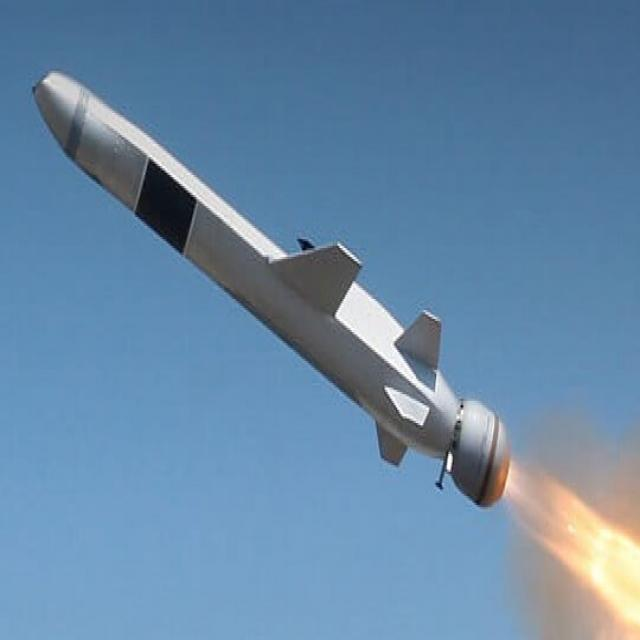missile: (31, 61, 513, 512)
